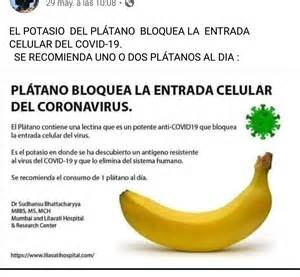banana: (117, 151, 277, 252)
